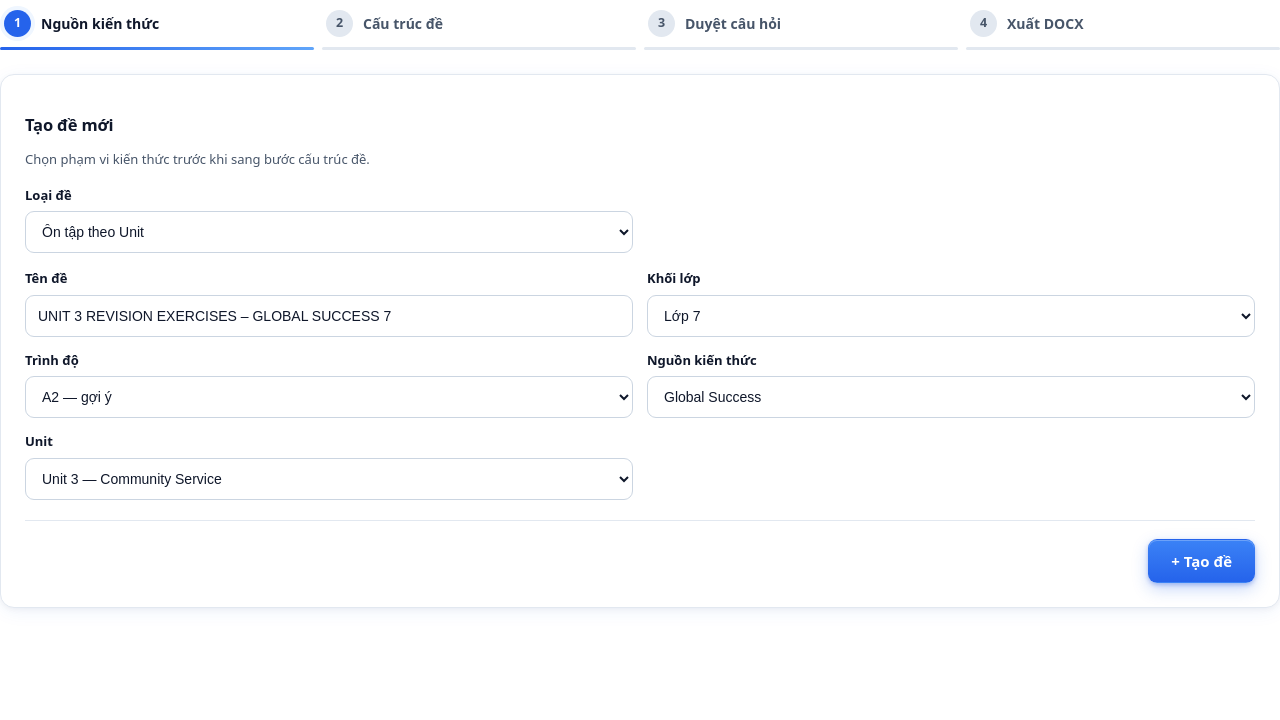
Scenario: ExamCreatePage › hiển thị lỗi và giữ nguyên trang khi tạo đề thất bại
The image size is (1280, 720).
Click the button "+ Tạo đề". click: (1202, 561)
box: x1=1148 y1=539 x2=1255 y2=583
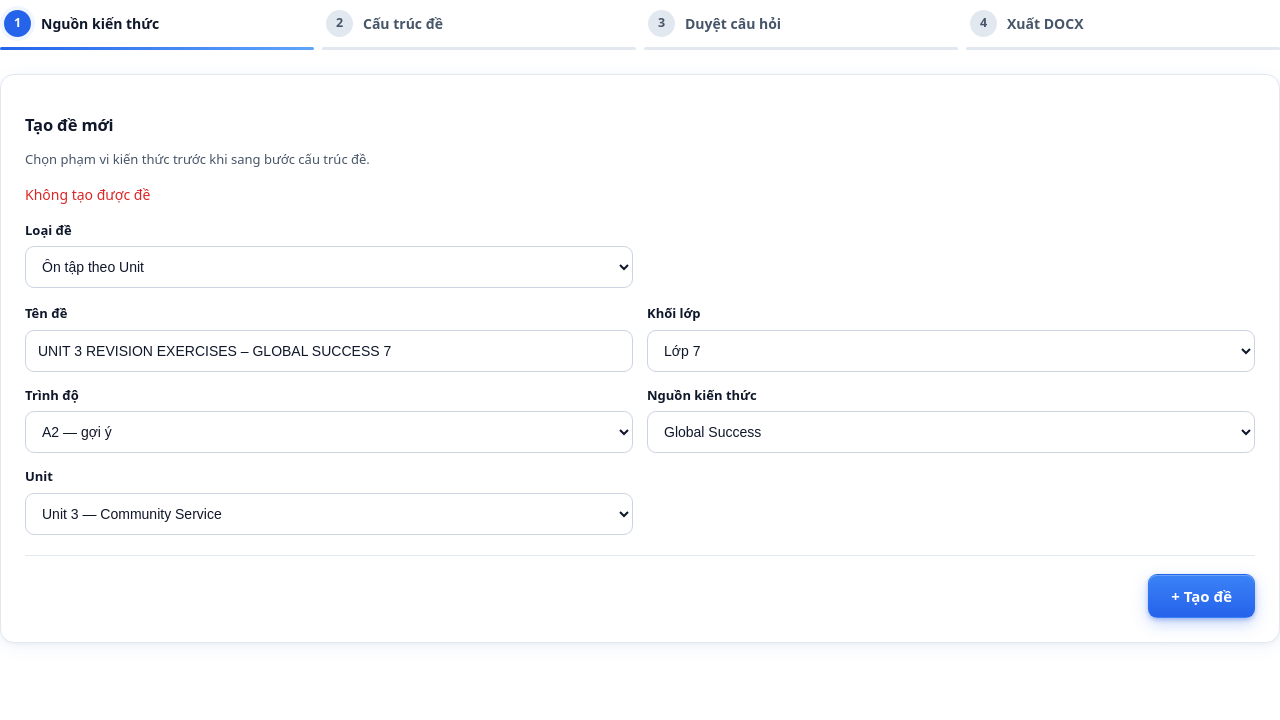
Expected: the heading "Tạo đề mới" is shown, x1=25 y1=113 x2=113 y2=136
Expected: the text "Không tạo được đề" is shown, x1=25 y1=185 x2=150 y2=204
